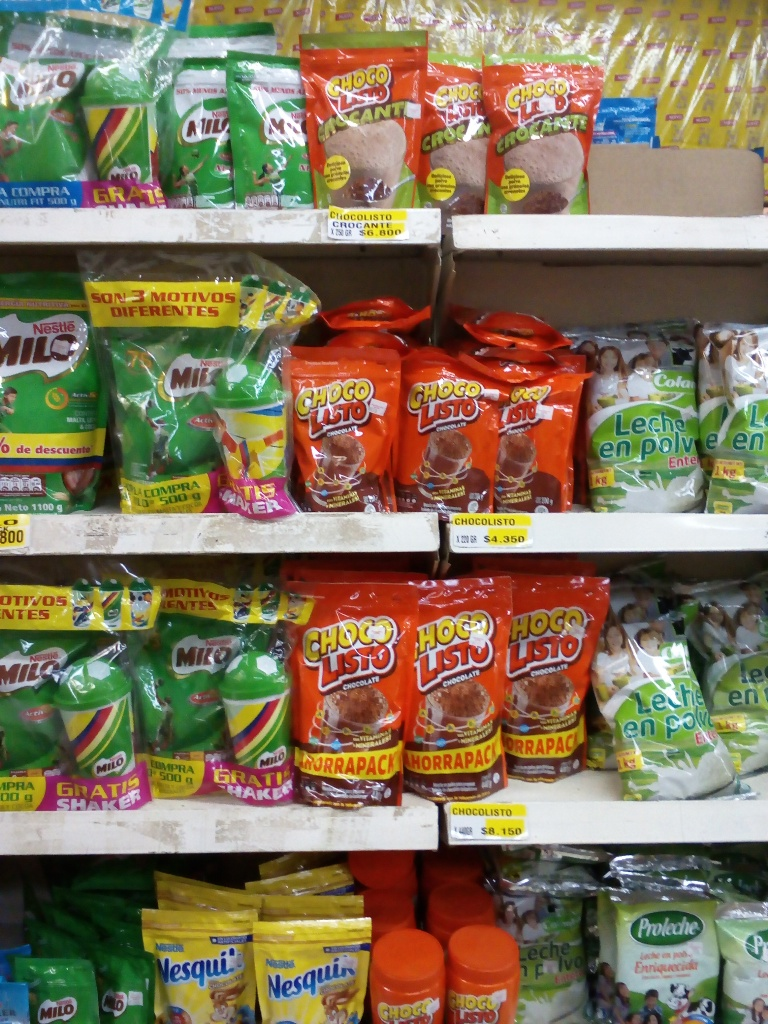COL0170103DYP44000: (283, 576, 407, 801)
COL0170203DYP50000: (138, 581, 269, 760)
COL0170205DYP50000: (1, 48, 91, 189)
